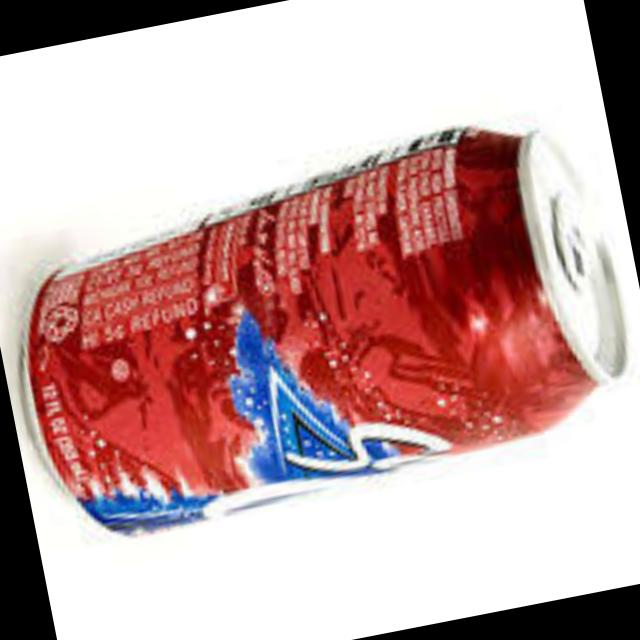metal: (27, 124, 630, 525)
